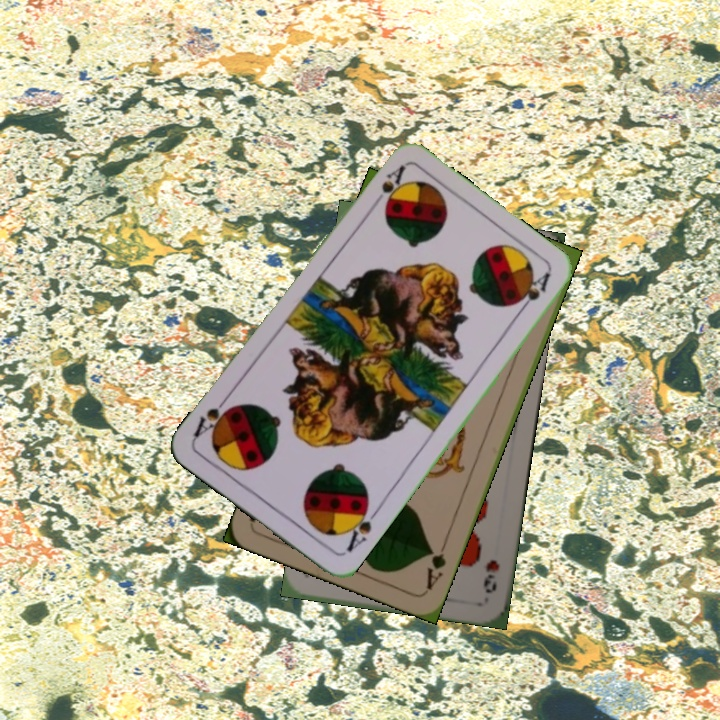GA: (421, 535, 450, 593)
H9: (479, 555, 502, 596)
SA: (340, 499, 381, 555), (366, 161, 408, 213)
